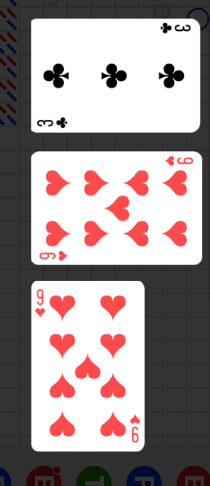3C: (157, 22, 192, 36)
9H: (33, 288, 46, 319), (128, 413, 141, 444)
